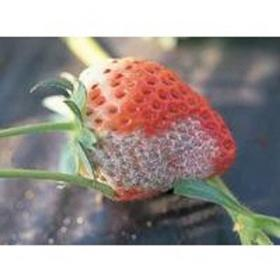Gray Mold: (80, 113, 224, 194)
